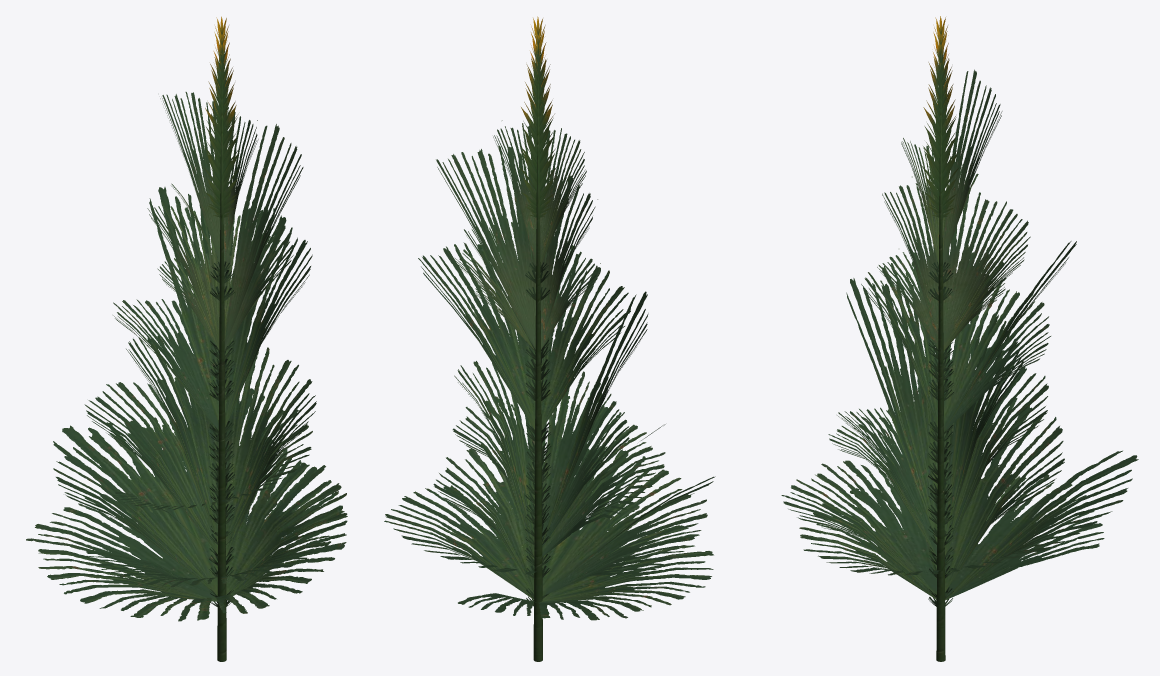
File: Plant - Alien Plant 13A-CyX_5Amr.glb
3 renders of one model, left to right at view 1: azimuth 30°, elevation 25°; view 2: azimuth 150°, elevation 25°; view 3: azimuth 270°, elevation 25°, orthographic.
Visible parts, largest first — view 1: Plant13A(Clone); view 2: Plant13A(Clone); view 3: Plant13A(Clone).
Boxes of the visible parts, x1,y1,x2,y2 form: Plant13A(Clone): [26, 16, 347, 661]; Plant13A(Clone): [384, 16, 715, 661]; Plant13A(Clone): [781, 16, 1138, 661].
Size of the model in its own units: 3.17 by 6.57 by 3.48.
Materials: 1 (1 with a texture image).
